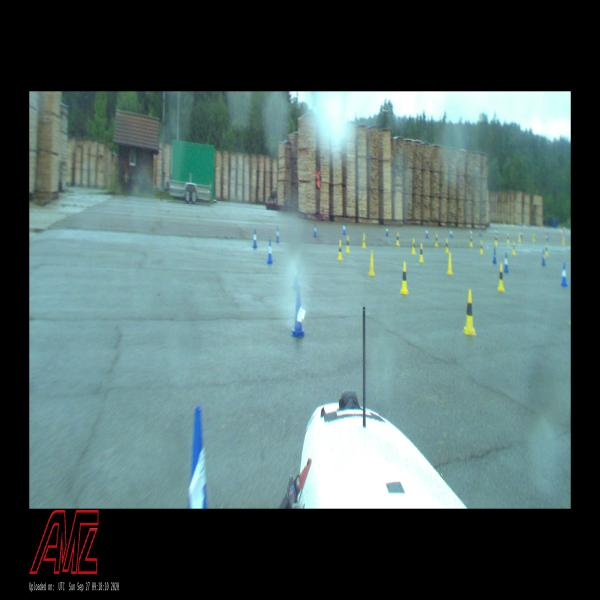blue_cone: (188, 406, 208, 508), (291, 286, 305, 338), (560, 263, 568, 286), (266, 240, 272, 264), (252, 229, 258, 248), (492, 246, 497, 263), (504, 251, 508, 272), (542, 249, 546, 266), (275, 228, 279, 242), (313, 224, 317, 237), (385, 224, 388, 236), (449, 227, 452, 238), (343, 222, 345, 235), (426, 228, 428, 238)
yellow_cone: (464, 288, 476, 335), (399, 262, 409, 294), (496, 264, 504, 292), (368, 251, 375, 276), (447, 252, 453, 274), (337, 240, 343, 260), (419, 243, 424, 262), (345, 235, 350, 253), (444, 239, 449, 253), (412, 239, 416, 254), (362, 234, 366, 248), (479, 241, 483, 254), (469, 235, 473, 246), (494, 234, 498, 245), (512, 241, 515, 255), (396, 232, 399, 246), (435, 234, 438, 247), (545, 244, 548, 256)
